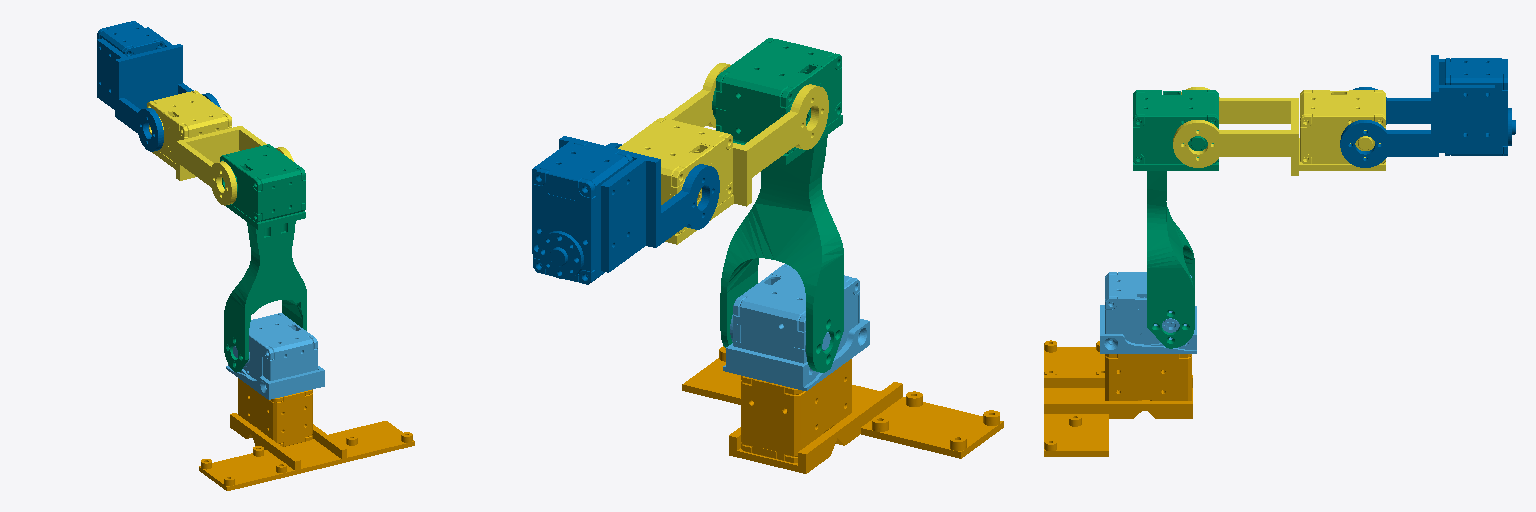
The robot description file, URDF, robot "xl430_r3_bare_observation_model":
<?xml version='1.0' encoding='utf-8'?>
<robot name="xl430_r3_bare_observation_model">
  <link name="body_0">
    <visual>
      <origin xyz="0 0 0" rpy="0 0 0" />
      <geometry>
        <mesh filename="body_0.stl" scale="1 1 1" />
      </geometry>
    </visual>
  </link>
  <link name="body_1">
    <visual>
      <origin xyz="0 0 0" rpy="0 0 0" />
      <geometry>
        <mesh filename="body_1.stl" scale="1 1 1" />
      </geometry>
    </visual>
  </link>
  <joint name="J1" type="revolute">
    <parent link="body_0" />
    <child link="body_1" />
    <origin xyz="0.0 0.0 0.02" rpy="0 0 0" />
    <axis xyz="0 0 1" />
    <limit lower="-3.141592653589793" upper="3.141592653589793" effort="0" velocity="0" />
  </joint>
  <link name="body_2">
    <visual>
      <origin xyz="0 0 0" rpy="0 0 0" />
      <geometry>
        <mesh filename="body_2.stl" scale="1 1 1" />
      </geometry>
    </visual>
  </link>
  <joint name="J2" type="revolute">
    <parent link="body_1" />
    <child link="body_2" />
    <origin xyz="-0.0002 0.0 0.0363" rpy="0 0 0" />
    <axis xyz="-1 0 0" />
    <limit lower="-3.141592653589793" upper="3.141592653589793" effort="0" velocity="0" />
  </joint>
  <link name="body_3">
    <visual>
      <origin xyz="0 0 0" rpy="0 0 0" />
      <geometry>
        <mesh filename="body_3.stl" scale="1 1 1" />
      </geometry>
    </visual>
  </link>
  <joint name="J3" type="revolute">
    <parent link="body_2" />
    <child link="body_3" />
    <origin xyz="0.0 0.0148 0.10830000000000001" rpy="0 0 0" />
    <axis xyz="1 0 0" />
    <limit lower="-3.141592653589793" upper="3.141592653589793" effort="0" velocity="0" />
  </joint>
  <link name="body_4">
    <visual>
      <origin xyz="0 0 0" rpy="0 0 0" />
      <geometry>
        <mesh filename="body_4.stl" scale="1 1 1" />
      </geometry>
    </visual>
  </link>
  <joint name="J4" type="revolute">
    <parent link="body_3" />
    <child link="body_4" />
    <origin xyz="0.0 0.09010000000000001 0.0" rpy="0 0 0" />
    <axis xyz="1 0 0" />
    <limit lower="-3.141592653589793" upper="3.141592653589793" effort="0" velocity="0" />
  </joint>
</robot>

--- What the picture shows (computed from the rendered views, not written in the file) ---
3 views of the same robot in one strip: view 1: azimuth 30°, elevation 25°; view 2: azimuth 150°, elevation 25°; view 3: azimuth 270°, elevation 25° (orthographic).
Model xl430_r3_bare_observation_model with 5 links and 4 joints (4 revolute), rooted at body_0, posed all joints at 0.
Visible links, largest first — view 1: body_2, body_0, body_4, body_3, body_1; view 2: body_2, body_4, body_0, body_3, body_1; view 3: body_0, body_4, body_2, body_3, body_1.
Link boxes in pixels (x1=…): body_2: x1=220, y1=144, x2=306, y2=372; body_0: x1=199, y1=378, x2=414, y2=490; body_4: x1=97, y1=21, x2=220, y2=151; body_3: x1=147, y1=90, x2=293, y2=205; body_1: x1=226, y1=313, x2=324, y2=399; body_2: x1=712, y1=38, x2=843, y2=372; body_4: x1=532, y1=136, x2=719, y2=284; body_0: x1=682, y1=346, x2=1003, y2=473; body_3: x1=618, y1=63, x2=828, y2=244; body_1: x1=723, y1=264, x2=869, y2=390; body_0: x1=1044, y1=340, x2=1192, y2=456; body_4: x1=1340, y1=55, x2=1515, y2=167; body_2: x1=1133, y1=90, x2=1218, y2=348; body_3: x1=1173, y1=87, x2=1385, y2=175; body_1: x1=1100, y1=272, x2=1196, y2=353.
Size in the robot's own frame: 0.133 by 0.2538 by 0.1999 metres.
5 mesh visuals loaded from 5 distinct referenced files (5 binary STL).
